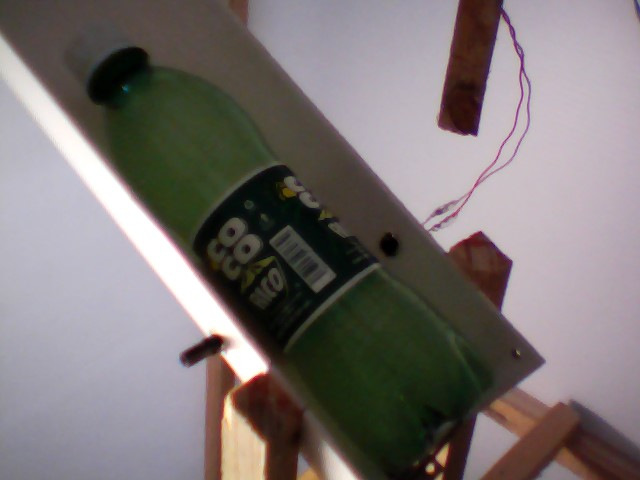plastico: (59, 10, 500, 480)
